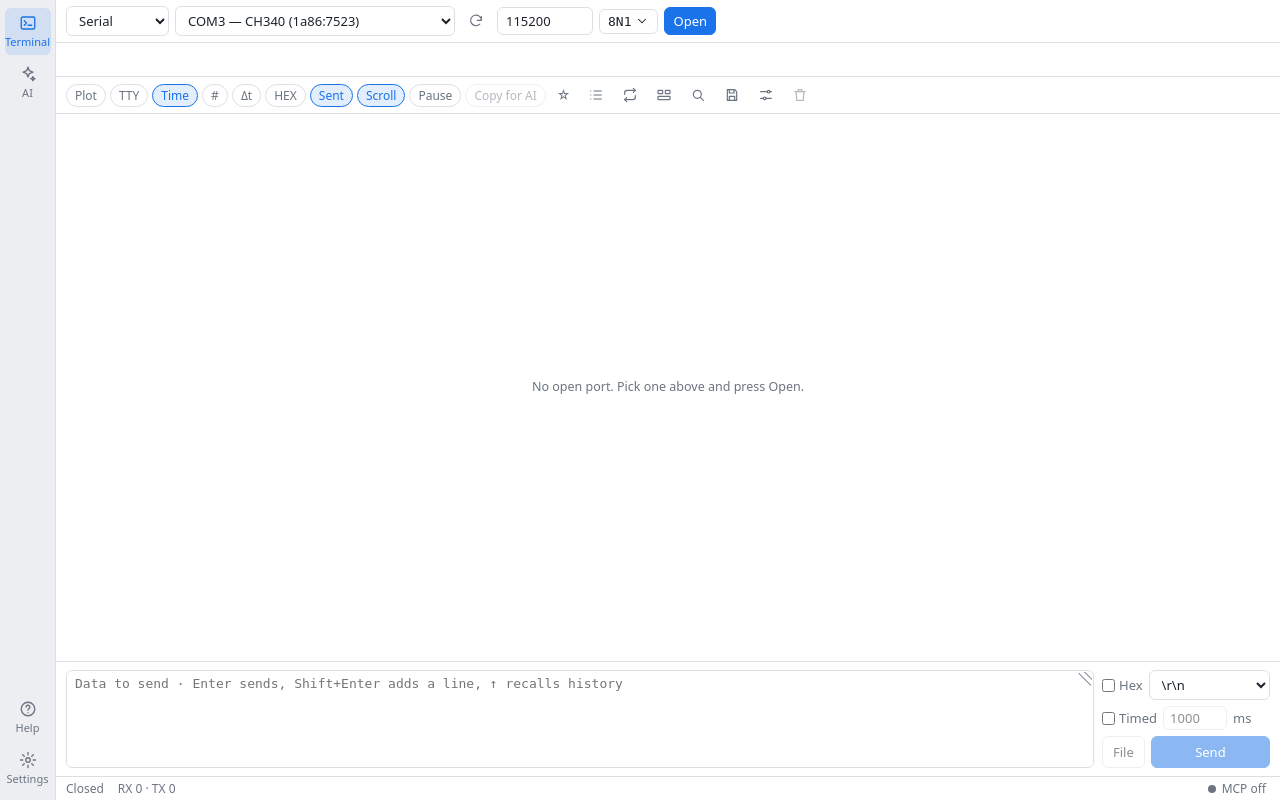
Test case: App › reports a session window that cannot open
Select "COM3 — CH340 (1a86:7523)" in the dropdown named "Port": (315, 21) [175,6,455,36]
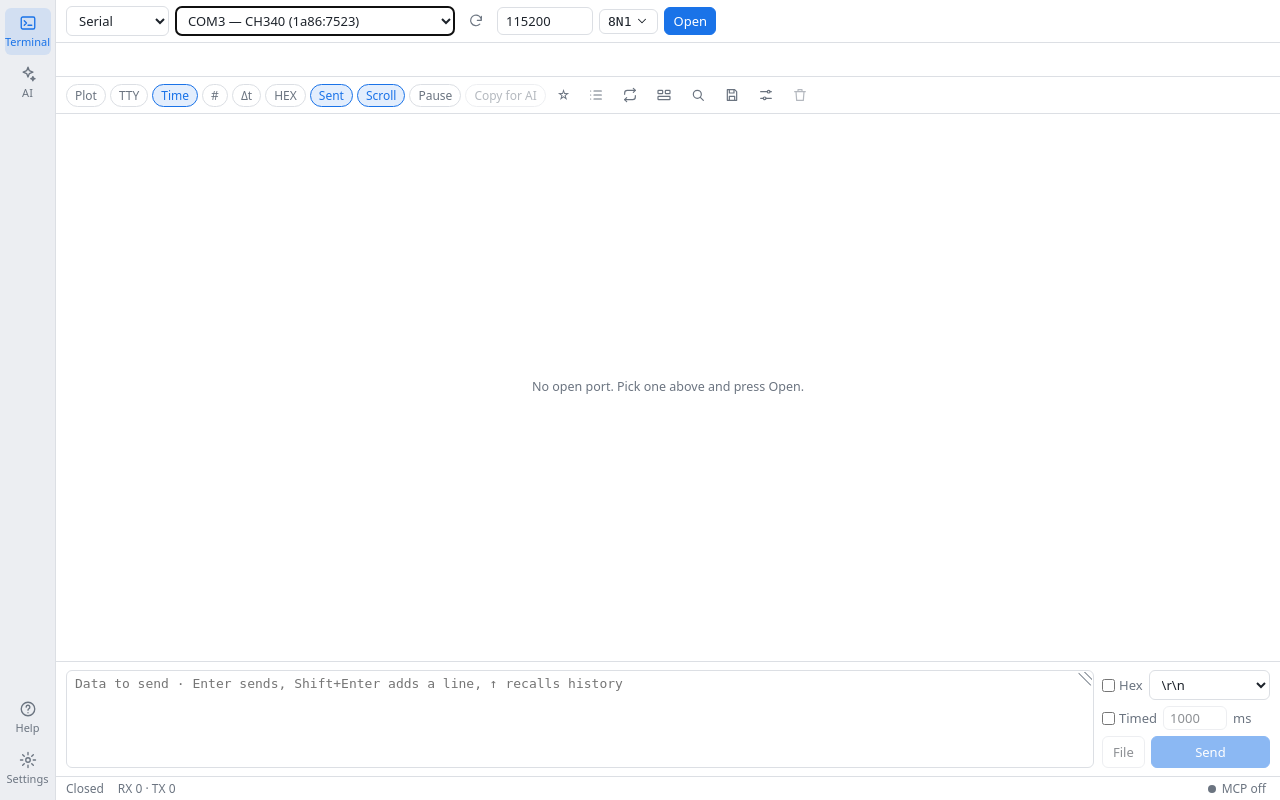
Click the button "Open": (690, 21) [664,7,716,35]
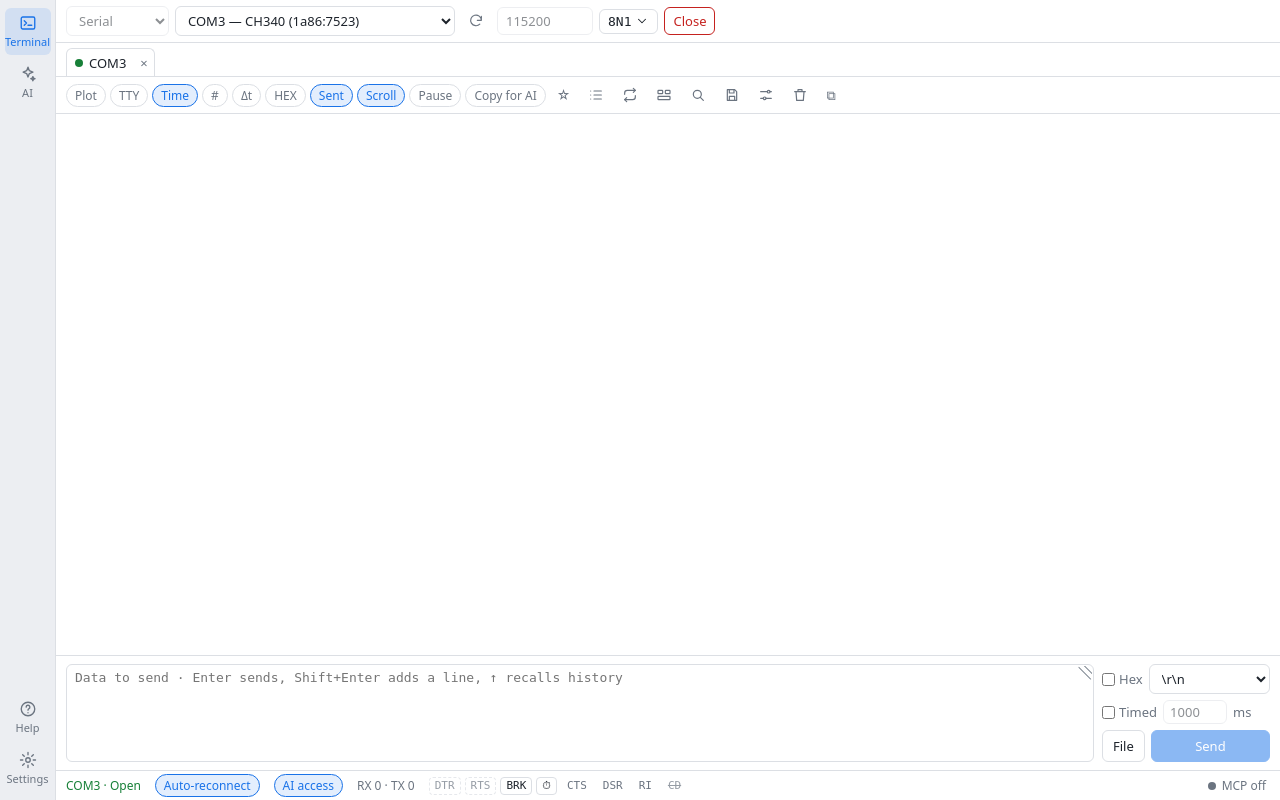
Now the message shows "COM3 · Open", box [56,770,1279,799]
Click the button named "Open in its own window": (831, 95) [819,81,843,109]
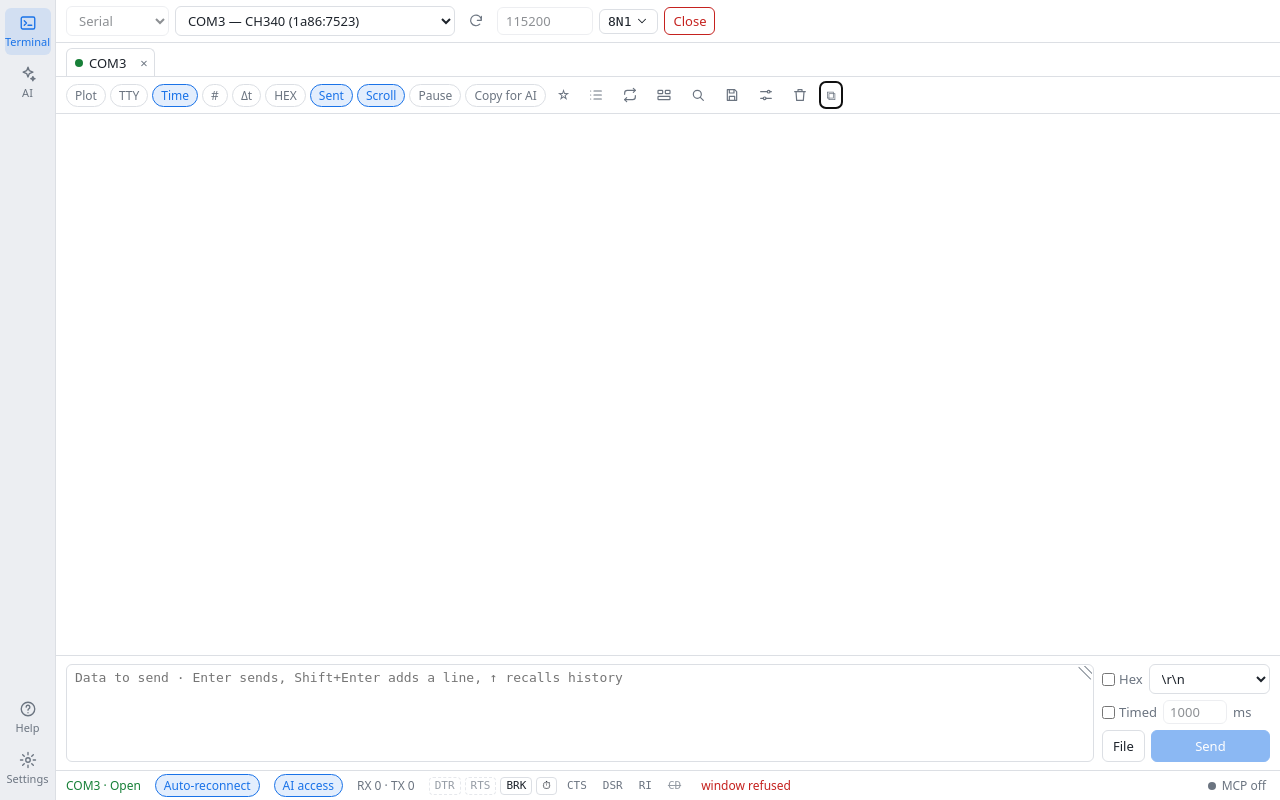
Now the message shows "window refused", box [701,777,791,794]
